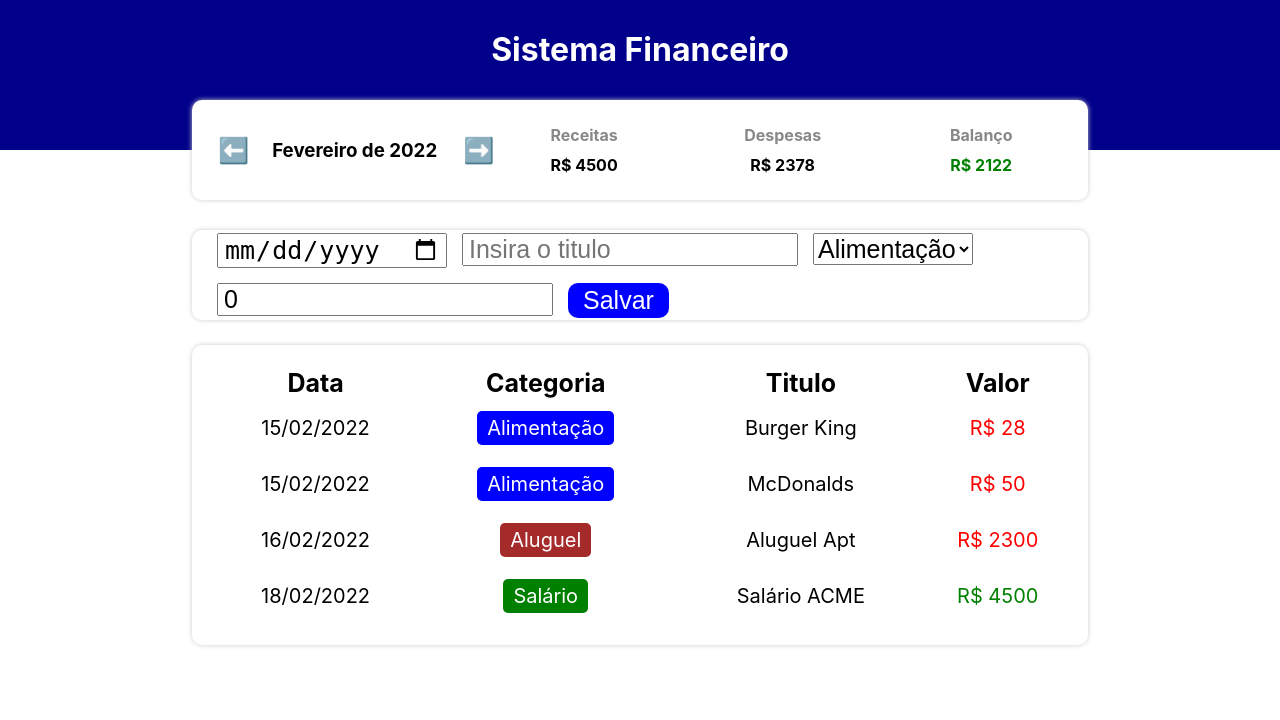
Test: testing add area › testing title required field
Step 1. Type "25/02/2022" into the date field with test id "input-date" → (332, 250), box [217,233,447,268]
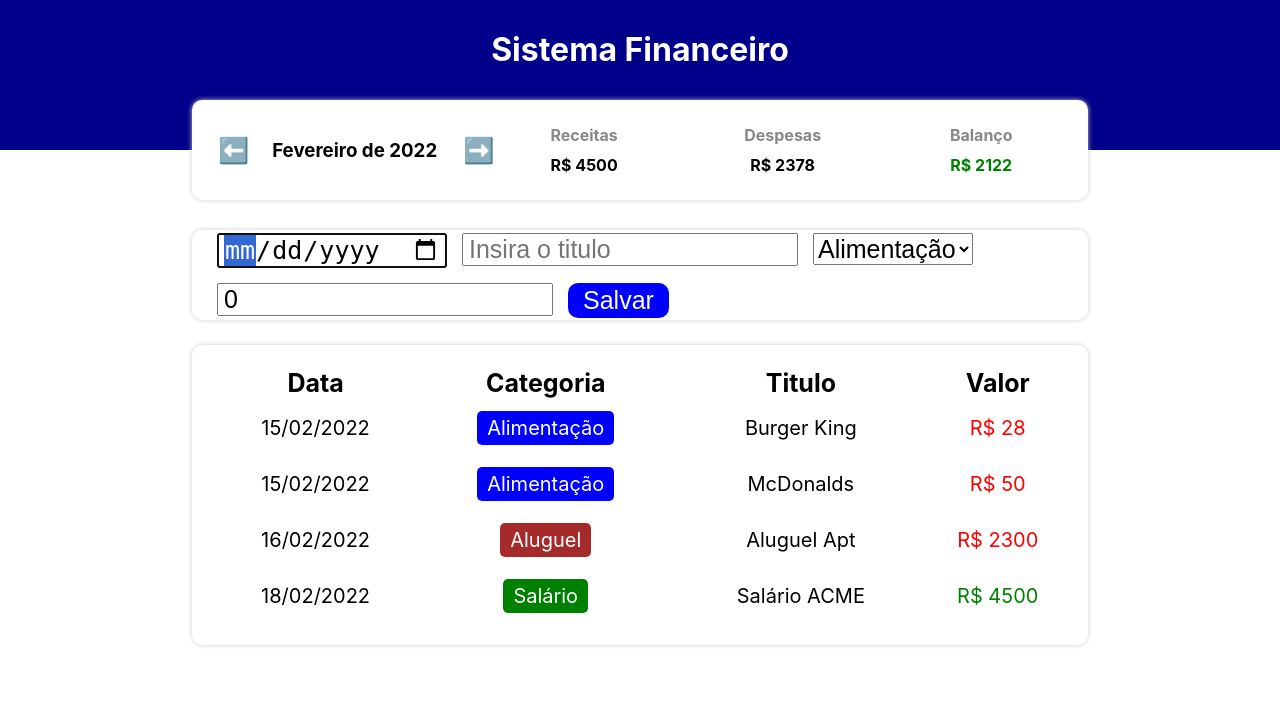
Step 2. Type "1000" into the field showing "0" → (385, 299), box [217,283,553,316]
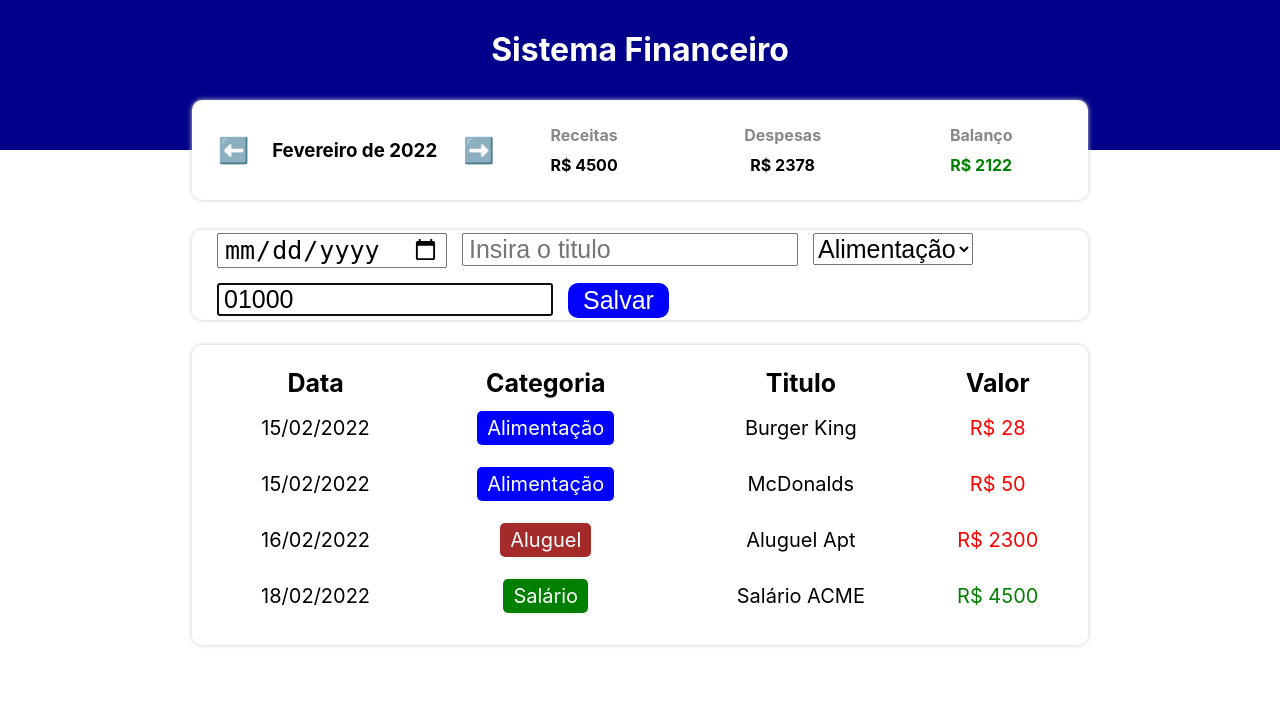
Step 3. Click the button "Salvar" → click(618, 300), box [568,283,669,318]
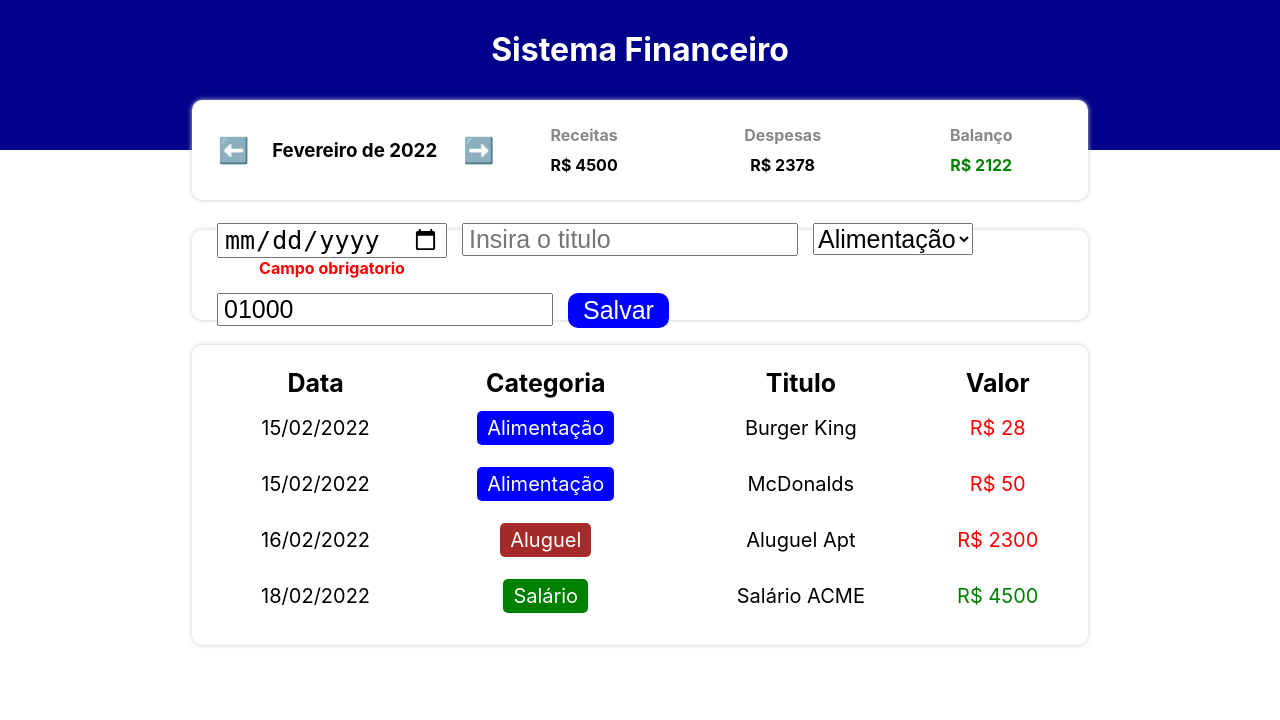
Expected: the text "Campo obrigatorio" is shown, [259,258,405,278]
